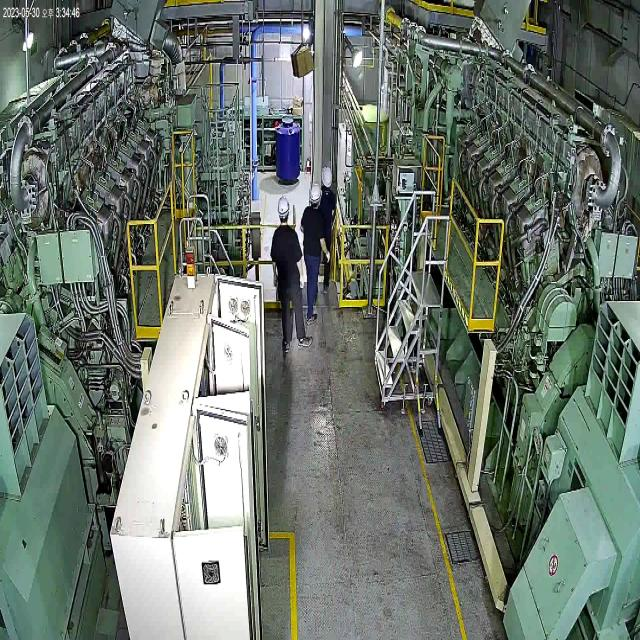Water Tank: (271, 112, 305, 186)
worker: (269, 190, 314, 364), (297, 176, 332, 335), (315, 166, 340, 292)
